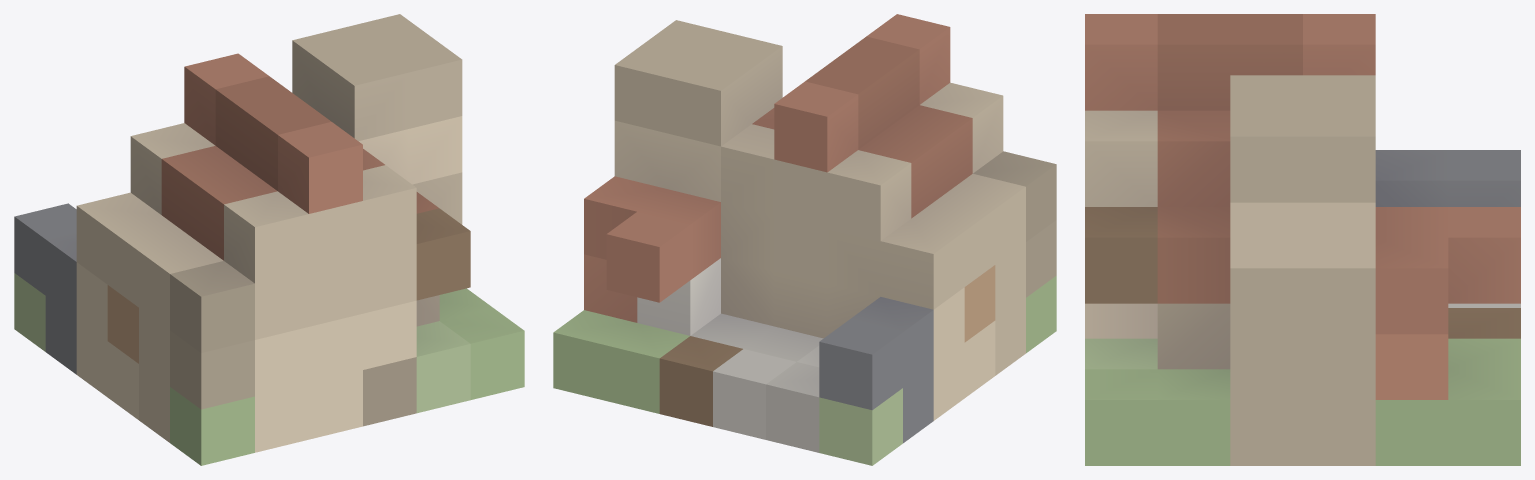
File: city_guard.lite.glb
The picture shows the model from 3 angles, left to right: view 1: azimuth 30°, elevation 25°; view 2: azimuth 150°, elevation 25°; view 3: azimuth 270°, elevation 25°; orthographic projection. The views are drawn at different scales.
Parts seen in each view (by area): view 1: city_guard; view 2: city_guard; view 3: city_guard.
Boxes of the visible parts, x1,y1,x2,y2 form: city_guard: [14, 14, 524, 465]; city_guard: [553, 14, 1056, 465]; city_guard: [1085, 14, 1520, 465].
Size of the model in its own units: 3 by 2.5 by 3.
